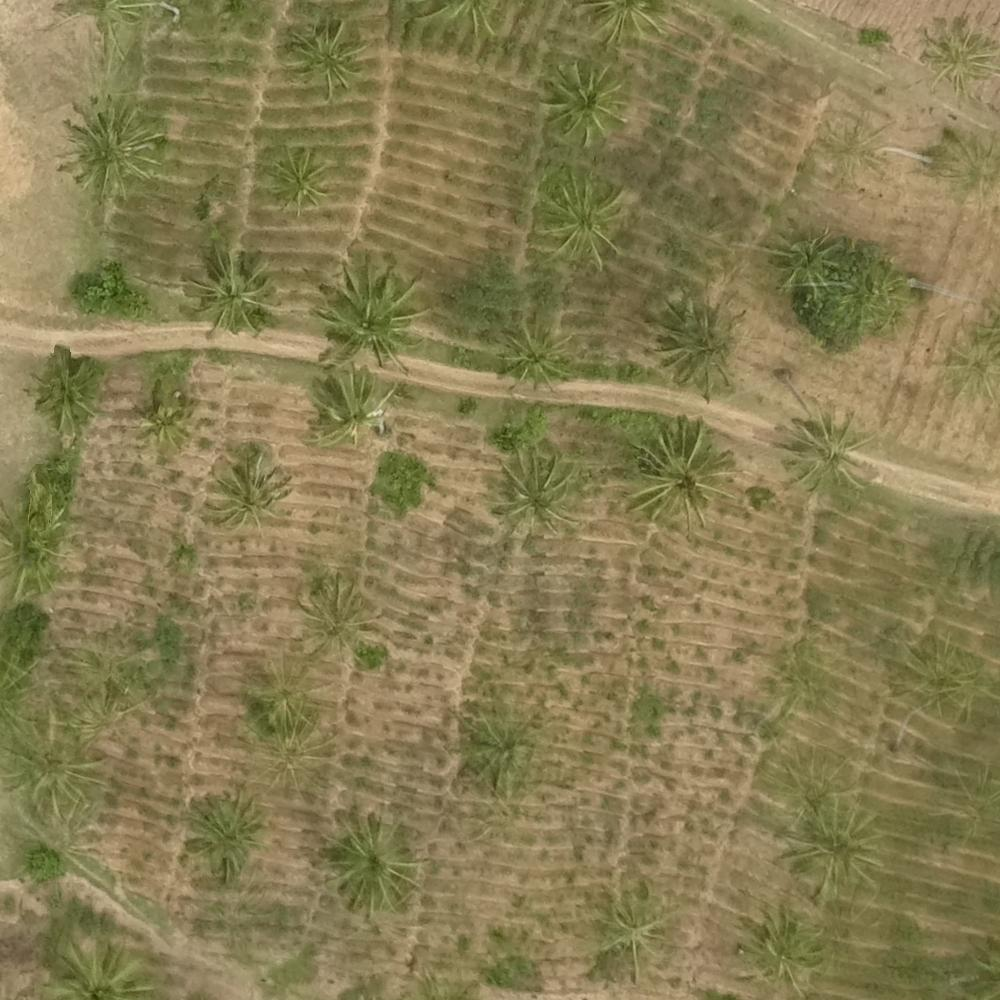Palm: (312, 260, 424, 369), (316, 812, 424, 916), (62, 97, 164, 199), (634, 423, 736, 521), (782, 806, 880, 899), (648, 296, 741, 392), (535, 172, 627, 266), (779, 408, 870, 501), (489, 447, 582, 536), (184, 246, 275, 336), (541, 61, 628, 145), (740, 909, 831, 988), (1, 504, 78, 594), (184, 791, 263, 878), (304, 368, 390, 446), (208, 450, 288, 532), (295, 581, 372, 658), (280, 23, 358, 99), (29, 348, 100, 431), (497, 316, 571, 394), (255, 144, 334, 213), (766, 223, 839, 293), (132, 381, 194, 445)
